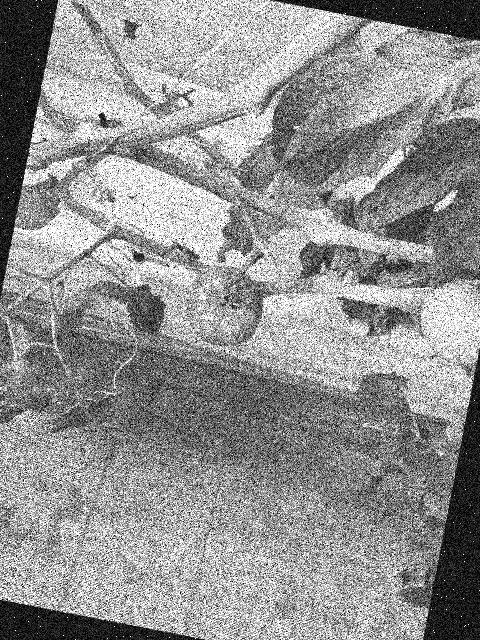b_fully_ripened: (179, 259, 269, 353)
b_green: (412, 274, 480, 369), (468, 363, 476, 389)
